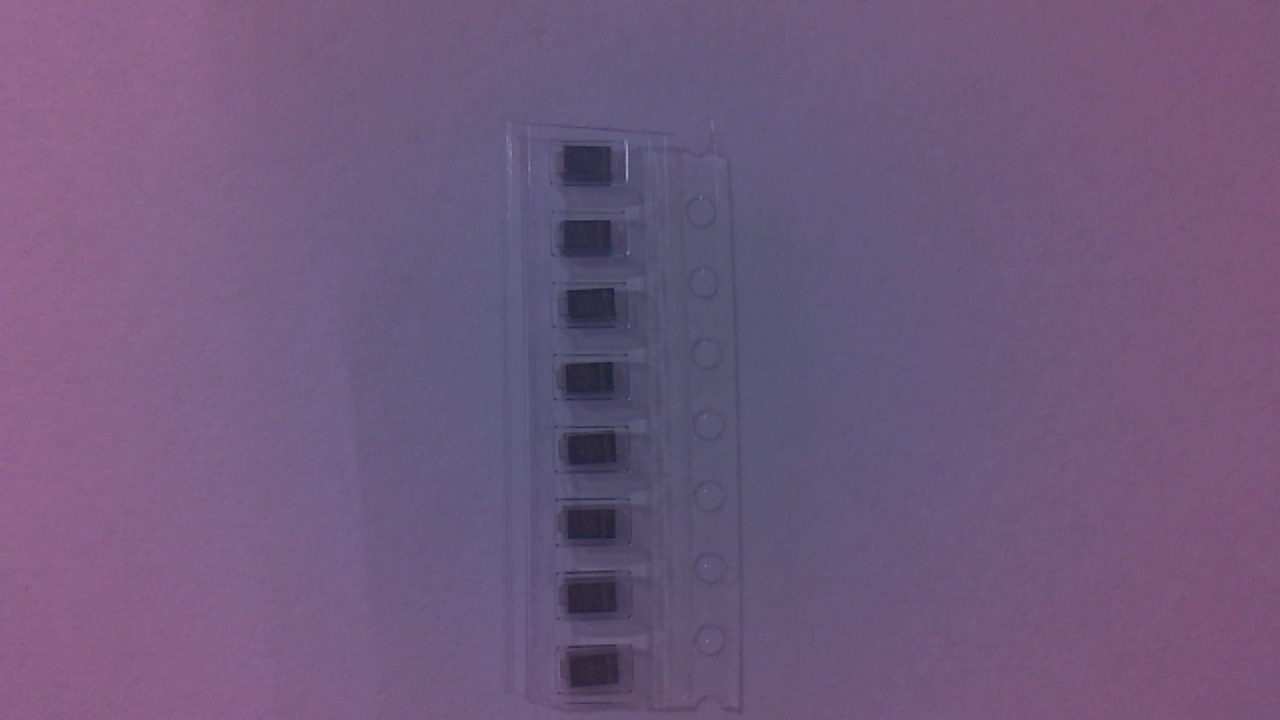Diode: (562, 502, 637, 551), (560, 650, 632, 696), (563, 578, 635, 622), (558, 150, 625, 189), (559, 365, 627, 403), (559, 223, 626, 261), (560, 292, 626, 329), (561, 440, 629, 474)
